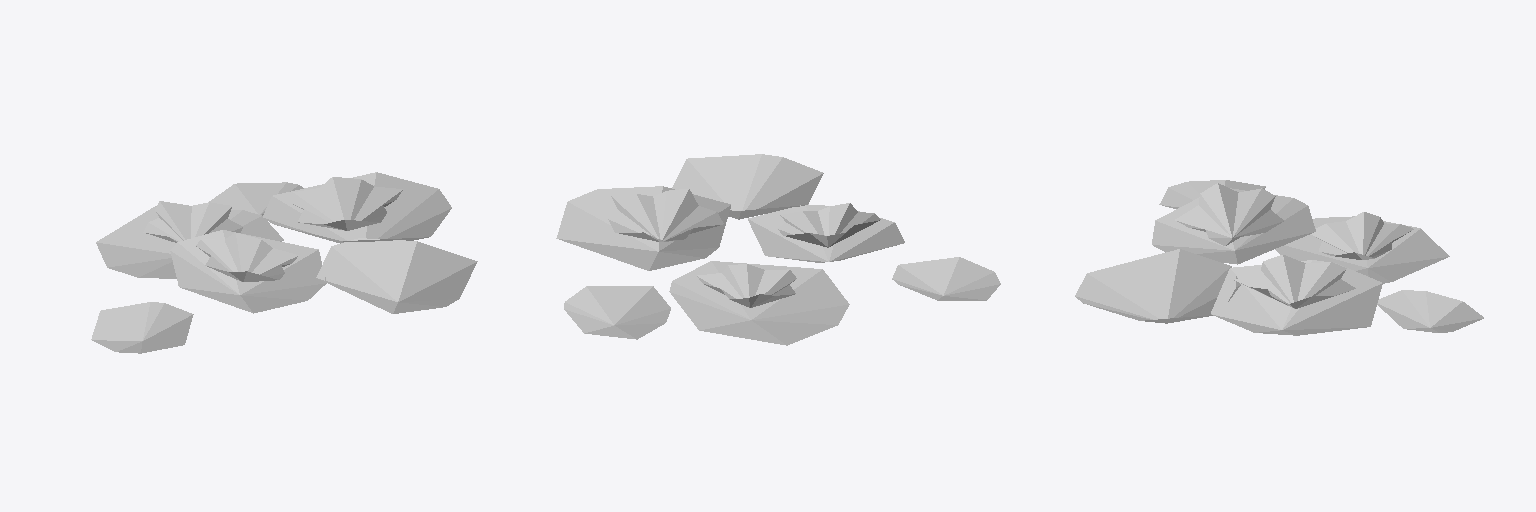
The model's file is Flower_6.obj.
3 renders of one model, left to right at view 1: azimuth 30°, elevation 25°; view 2: azimuth 150°, elevation 25°; view 3: azimuth 270°, elevation 25°, orthographic.
Parts seen in each view (by area): view 1: Flower_6; view 2: Flower_6; view 3: Flower_6.
Boxes of the visible parts, x1,y1,x2,y2 form: Flower_6: [91, 172, 477, 353]; Flower_6: [556, 154, 1000, 345]; Flower_6: [1075, 180, 1483, 335].
Size of the model in its own units: 0.9632 by 0.1614 by 0.8909.